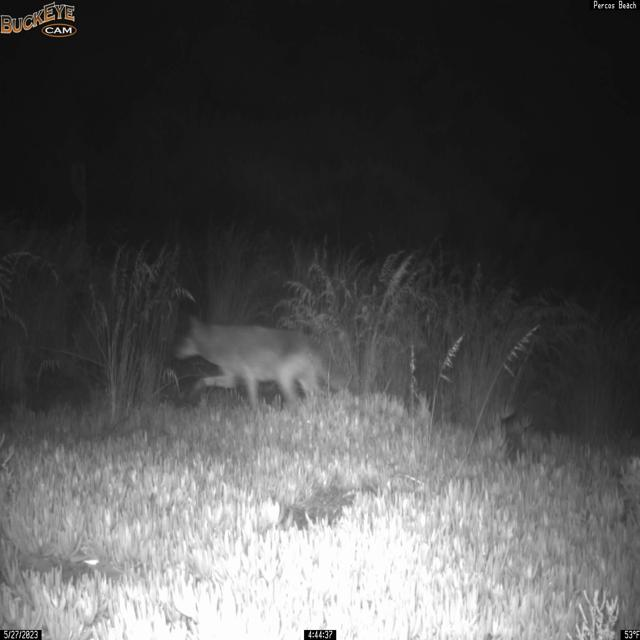coyote: (173, 313, 349, 412)
